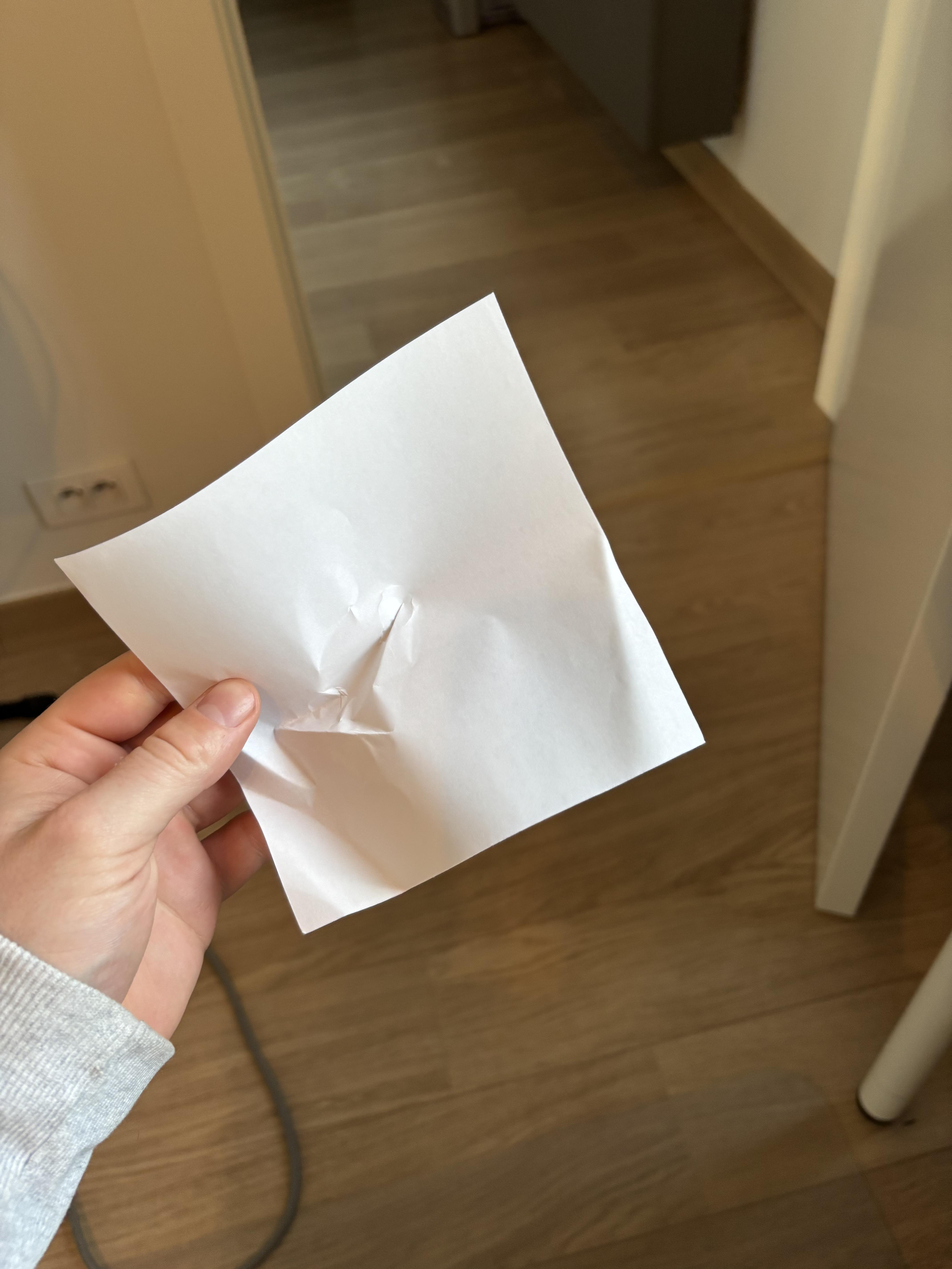Paper: (62, 282, 713, 940)
